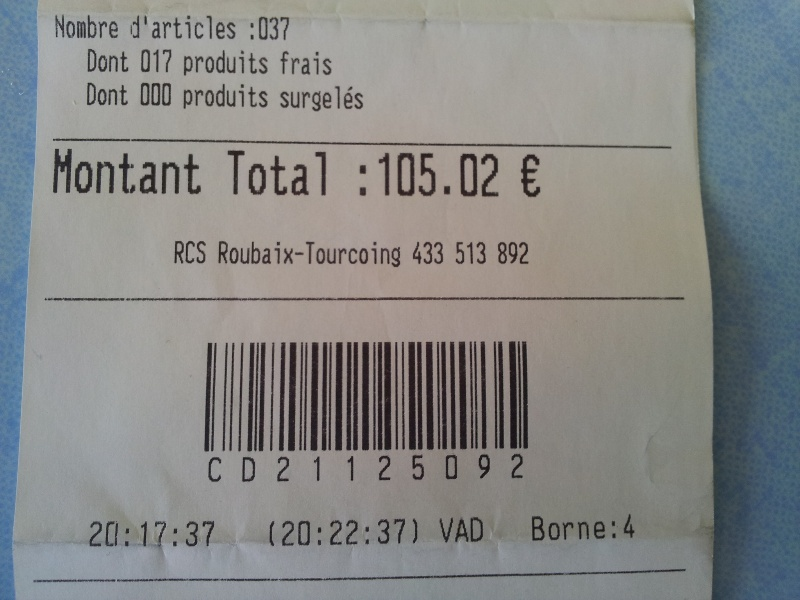text: (369, 151, 384, 200), (385, 151, 400, 200), (401, 151, 416, 200), (417, 151, 432, 200), (433, 151, 448, 200), (449, 151, 464, 200), (465, 151, 480, 200), (481, 151, 496, 200), (65, 148, 80, 196), (81, 148, 96, 196), (97, 148, 112, 196), (113, 148, 128, 196), (129, 148, 144, 196), (145, 148, 160, 196), (161, 148, 176, 196), (177, 148, 192, 196), (225, 150, 240, 197), (241, 150, 256, 197), (257, 150, 272, 197), (273, 150, 288, 197), (289, 150, 304, 197), (305, 150, 320, 197), (241, 449, 256, 489), (529, 153, 542, 199), (52, 148, 64, 196), (209, 454, 224, 492), (513, 449, 528, 482), (308, 449, 320, 490), (358, 151, 368, 200), (225, 238, 240, 270), (241, 238, 256, 270), (257, 238, 272, 270), (273, 238, 288, 270), (289, 238, 304, 270), (305, 238, 320, 270), (321, 238, 336, 270), (337, 238, 352, 270), (353, 238, 368, 270), (369, 238, 384, 270), (385, 238, 400, 270), (193, 148, 203, 196), (273, 517, 288, 549), (289, 517, 304, 549), (305, 517, 320, 549), (321, 517, 336, 549), (337, 517, 352, 549), (353, 517, 368, 549), (369, 517, 384, 549), (385, 517, 400, 549), (401, 517, 416, 549), (545, 512, 560, 542), (561, 512, 576, 542), (577, 512, 592, 542), (593, 512, 608, 542), (609, 512, 624, 542), (417, 450, 431, 482), (193, 83, 208, 112), (209, 83, 224, 112), (225, 83, 240, 112), (241, 83, 256, 112), (321, 150, 330, 197), (145, 14, 160, 42), (161, 14, 176, 42), (177, 14, 192, 42), (193, 14, 208, 42), (209, 14, 224, 42), (145, 48, 160, 76), (193, 50, 208, 78), (209, 50, 224, 78), (225, 50, 240, 78), (241, 50, 256, 78), (289, 85, 304, 113), (305, 85, 320, 113), (321, 85, 336, 113), (337, 85, 352, 113), (97, 521, 112, 549), (113, 521, 128, 549), (129, 521, 144, 549), (145, 521, 160, 549), (161, 521, 176, 549), (177, 521, 192, 549), (193, 521, 208, 549), (257, 15, 272, 42), (273, 15, 288, 42), (97, 47, 112, 74), (113, 47, 128, 74), (65, 13, 80, 40), (81, 13, 96, 40), (97, 13, 112, 40), (145, 81, 160, 108), (449, 517, 464, 544), (465, 517, 480, 544), (113, 83, 129, 108), (481, 450, 493, 483), (289, 50, 304, 76), (305, 50, 320, 76), (531, 512, 544, 542), (417, 241, 432, 266), (97, 83, 112, 108), (177, 240, 192, 265), (465, 240, 480, 265), (342, 453, 352, 490), (353, 453, 363, 490), (520, 153, 528, 199), (131, 14, 144, 42), (257, 50, 270, 78), (276, 453, 288, 483), (625, 512, 637, 542), (161, 81, 174, 108), (193, 240, 207, 265), (257, 83, 269, 112), (449, 454, 461, 483), (497, 242, 512, 265), (513, 242, 528, 265), (497, 151, 504, 200), (161, 48, 173, 76), (353, 85, 365, 113), (321, 449, 329, 490), (385, 449, 395, 481), (321, 50, 333, 76), (225, 14, 236, 42), (433, 241, 445, 266), (53, 13, 64, 40), (278, 85, 288, 113), (183, 83, 192, 112), (86, 83, 96, 108), (87, 47, 96, 74), (217, 238, 224, 270), (184, 50, 192, 78), (377, 449, 384, 481), (409, 450, 416, 482), (88, 521, 96, 549), (440, 517, 448, 544), (456, 240, 464, 265), (481, 240, 489, 265), (257, 449, 262, 489), (209, 521, 216, 549), (249, 15, 256, 42), (281, 50, 288, 76), (289, 453, 295, 483), (442, 454, 448, 483), (113, 13, 118, 40), (481, 517, 486, 544), (476, 450, 480, 483), (140, 48, 144, 76), (140, 81, 144, 108), (509, 449, 512, 482), (401, 238, 404, 270), (129, 47, 132, 74), (238, 449, 240, 489), (270, 517, 272, 549), (417, 517, 419, 549), (289, 15, 291, 42), (414, 241, 416, 266), (174, 240, 176, 265), (529, 242, 531, 265), (225, 454, 226, 492), (529, 449, 530, 482)
